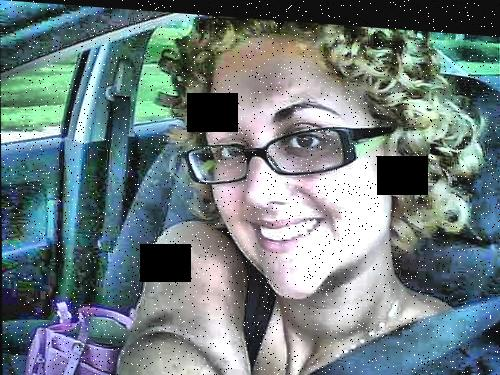seatbelt: (312, 269, 493, 375), (86, 100, 134, 241)
